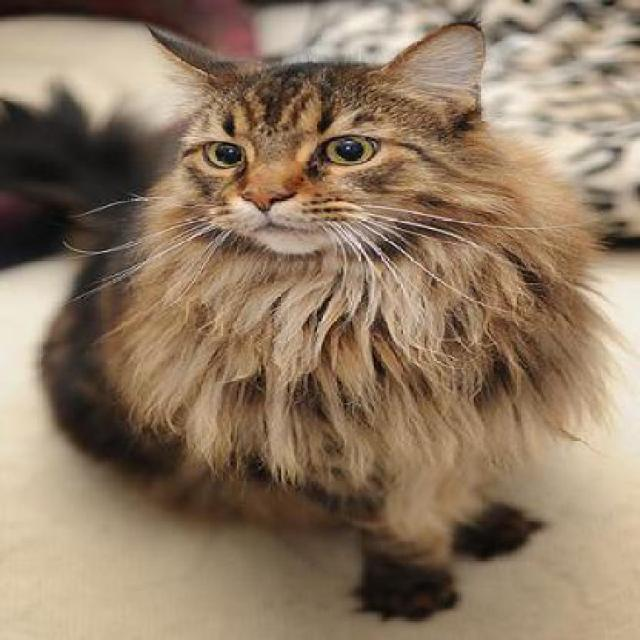cat: (41, 20, 587, 620)
